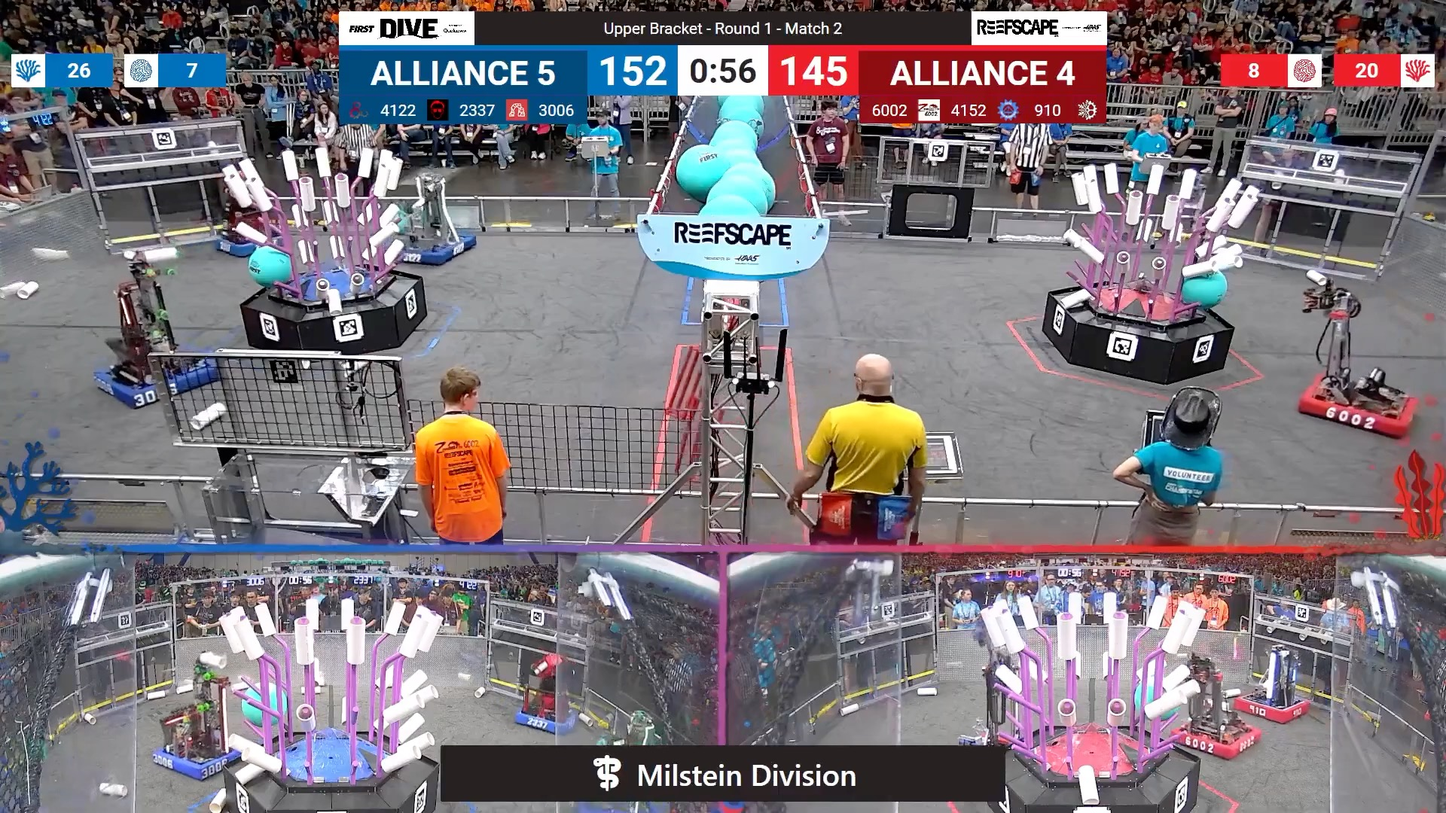bumpers: (1288, 369, 1424, 441), (88, 351, 232, 406), (148, 739, 248, 782), (1166, 716, 1261, 761), (383, 230, 483, 268), (1226, 690, 1314, 724), (507, 703, 585, 739)
